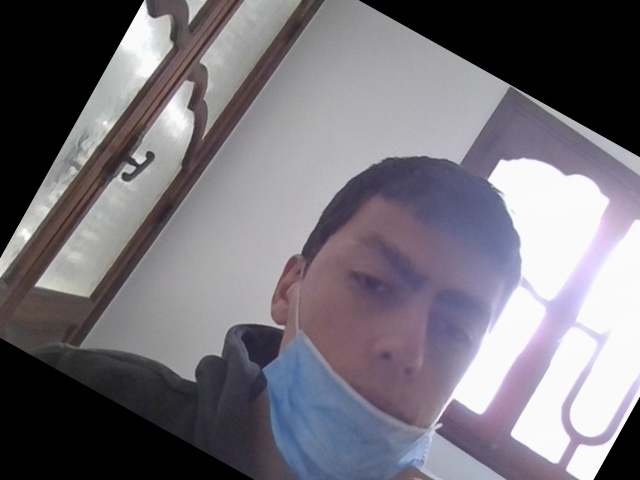mask_weared_incorrect: (280, 159, 498, 479)
